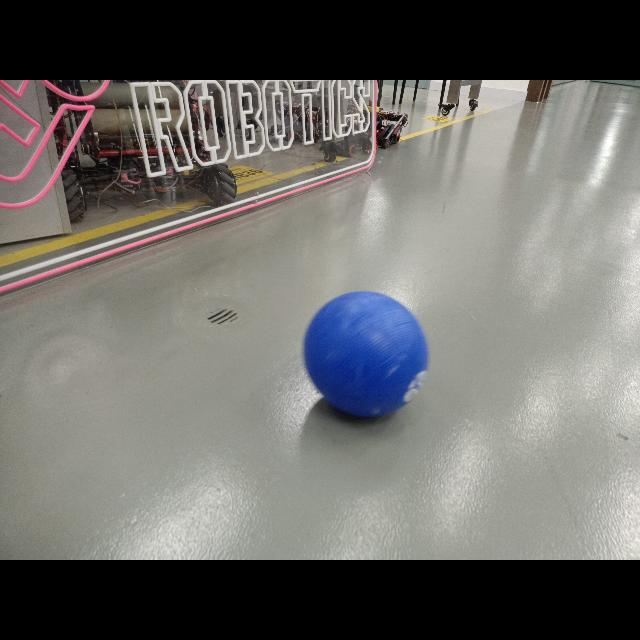B: (303, 291, 429, 417)
